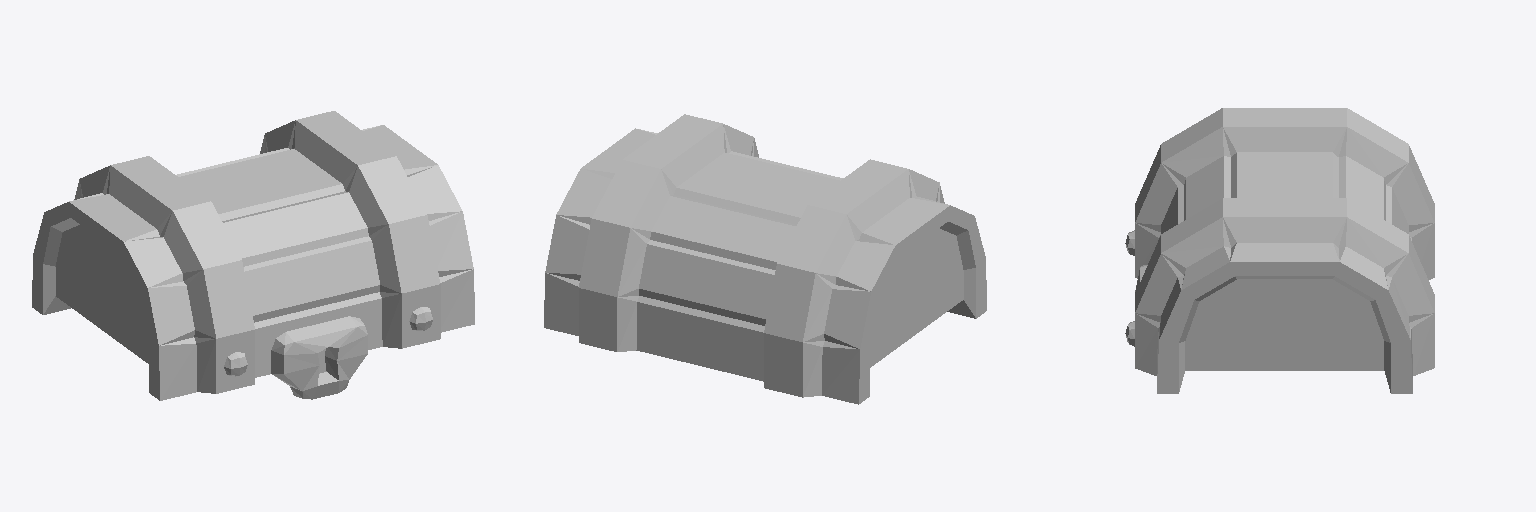
The model's file is chest_gold_lid.obj.
3 views of the same model, side by side, from view 1: azimuth 30°, elevation 25°; view 2: azimuth 150°, elevation 25°; view 3: azimuth 270°, elevation 25° (orthographic).
Parts seen in each view (by area): view 1: chest_gold_lid; view 2: chest_gold_lid; view 3: chest_gold_lid.
Boxes of the visible parts, box(x1,y1,x2,y2) form: chest_gold_lid: box(32, 111, 474, 400); chest_gold_lid: box(544, 114, 986, 404); chest_gold_lid: box(1125, 108, 1434, 393).
Bounding box in the file's own units: 1.7 × 0.965 × 1.45.